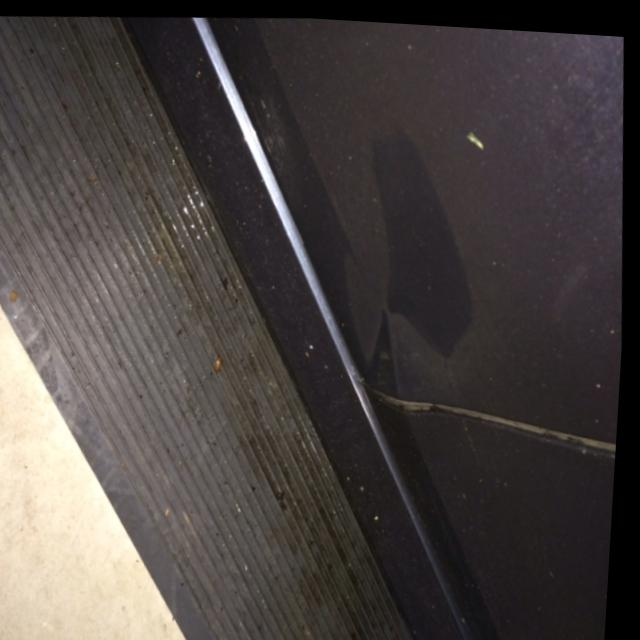Dent: (347, 201, 457, 371)
